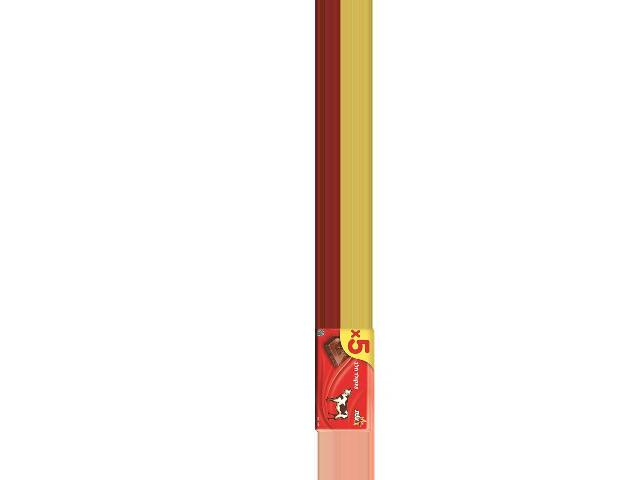chocolate: (315, 328, 376, 433)
